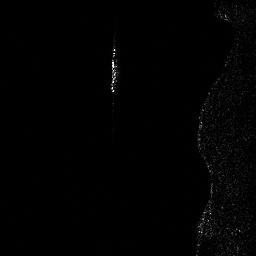ship: (109, 47, 118, 94)
